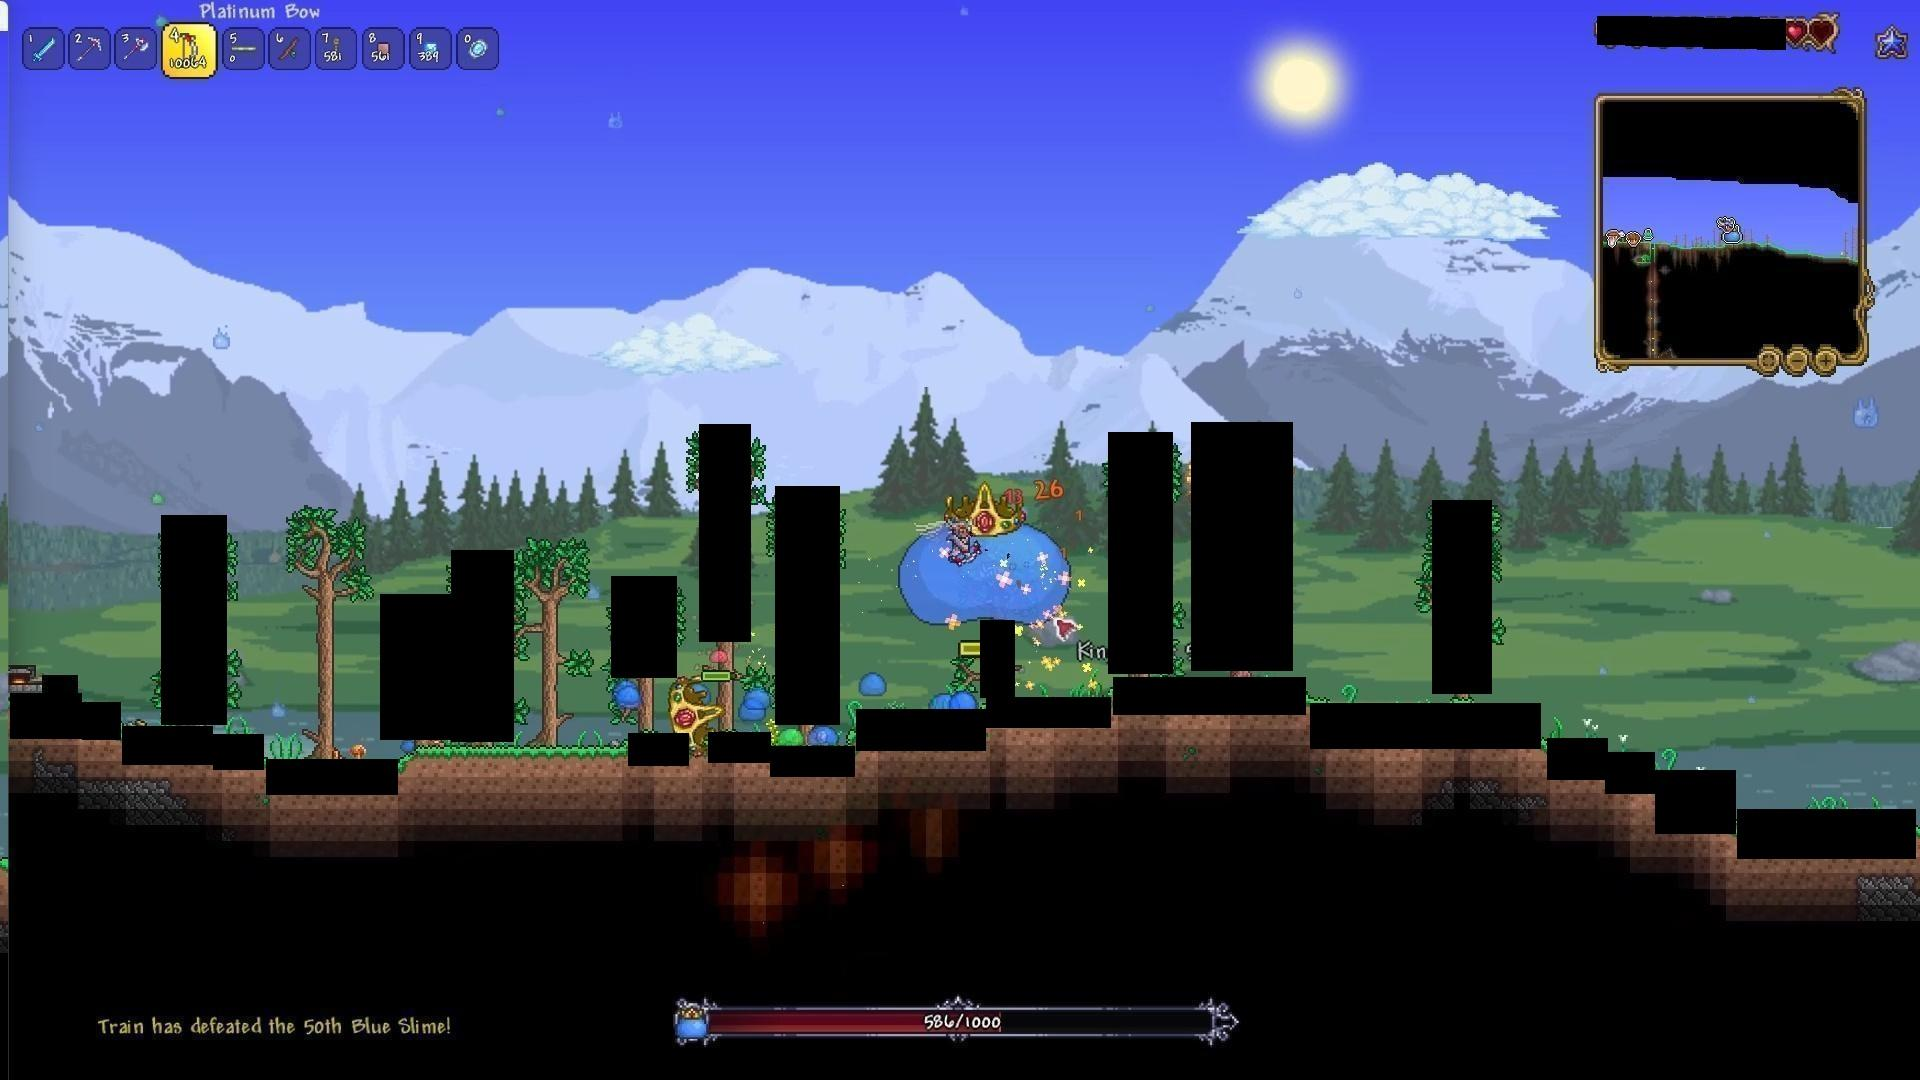dirt: (402, 742, 628, 786)
slime: (684, 675, 724, 705), (949, 683, 981, 717), (742, 687, 775, 719), (803, 720, 843, 746), (855, 669, 886, 698), (615, 680, 646, 707), (775, 724, 804, 752), (926, 684, 948, 717), (705, 644, 732, 665)
tree: (290, 512, 353, 758), (522, 531, 585, 741)
